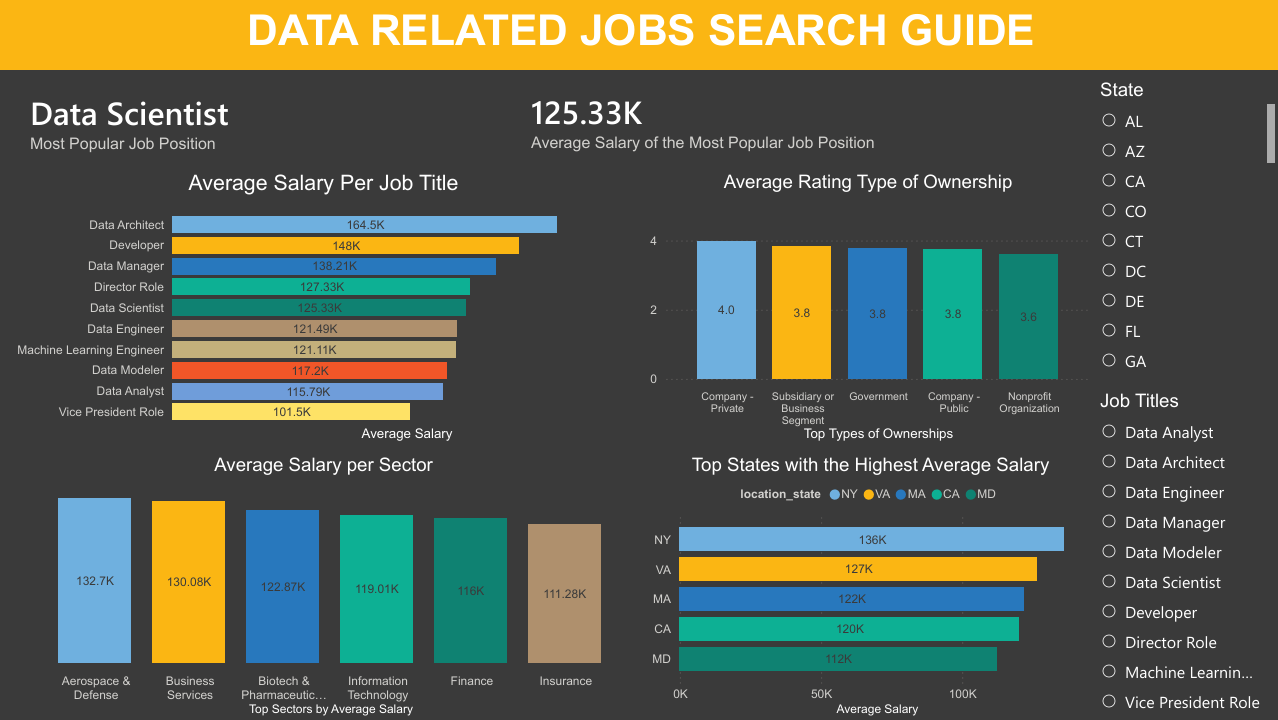

The dashboard page shown, as its layout file describes it:
{"tool":"powerbi","page":{"name":"Page 1","canvas":[1280,720],"ordinal":0},"visuals":[{"type":"cardVisual","fields":{"Data":["Min(ds_jobs_cleaned.cleaned_job_title)"]},"box":[0,70,501,100],"z":0},{"type":"barChart","title":"Average Salary Per Job Title","fields":{"Y":["Avg(ds_jobs_cleaned.average_salary)"],"Category":["ds_jobs_cleaned.cleaned_job_title"],"Series":["ds_jobs_cleaned.cleaned_job_title"]},"box":[0,170,645,275],"z":1000},{"type":"barChart","title":"Top States with the Highest Average Salary","fields":{"Category":["ds_jobs_cleaned.location_state"],"Series":["ds_jobs_cleaned.location_state"],"Y":["Avg(ds_jobs_cleaned.average_salary)"]},"box":[645,453,449,267],"z":2000},{"type":"cardVisual","fields":{"Data":["Avg(ds_jobs_cleaned.average_salary)"]},"box":[501,70,593,99],"z":3000},{"type":"columnChart","title":"Average Salary per Sector","fields":{"Y":["Avg(ds_jobs_cleaned.average_salary)"],"Category":["ds_jobs_cleaned.sector"],"Series":["ds_jobs_cleaned.sector"]},"box":[0,453,645,267],"z":4000},{"type":"columnChart","title":"Average Rating Type of Ownership","fields":{"Category":["ds_jobs_cleaned.type_of_ownership"],"Y":["Avg(ds_jobs_cleaned.rating)"],"Series":["ds_jobs_cleaned.type_of_ownership"]},"box":[640,170,454,275],"z":5000},{"type":"listSlicer","title":"Job Titles","fields":{"Values":["ds_jobs_cleaned.cleaned_job_title"]},"box":[1094,389,186,331],"z":6000},{"type":"textbox","box":[0,0,1280,70],"z":7000},{"type":"listSlicer","title":"State","fields":{"Values":["ds_jobs_cleaned.location_state"]},"box":[1094,78,186,299],"z":8000}]}

Visuals, with their boxes in screenshot pixels (x1, y1, x2, y2), scaled from the page's 1280x720 canvas onto the 1278x720 screenshot:
cardVisual - Min(ds_jobs_cleaned.cleaned_job_title): l=0, t=70, r=500, b=170
"Average Salary Per Job Title" barChart: l=0, t=170, r=644, b=445
"Top States with the Highest Average Salary" barChart: l=644, t=453, r=1092, b=719
cardVisual - Avg(ds_jobs_cleaned.average_salary): l=500, t=70, r=1092, b=169
"Average Salary per Sector" columnChart: l=0, t=453, r=644, b=719
"Average Rating Type of Ownership" columnChart: l=639, t=170, r=1092, b=445
"Job Titles" listSlicer: l=1092, t=389, r=1277, b=719
textbox: l=0, t=0, r=1277, b=70
"State" listSlicer: l=1092, t=78, r=1277, b=377
